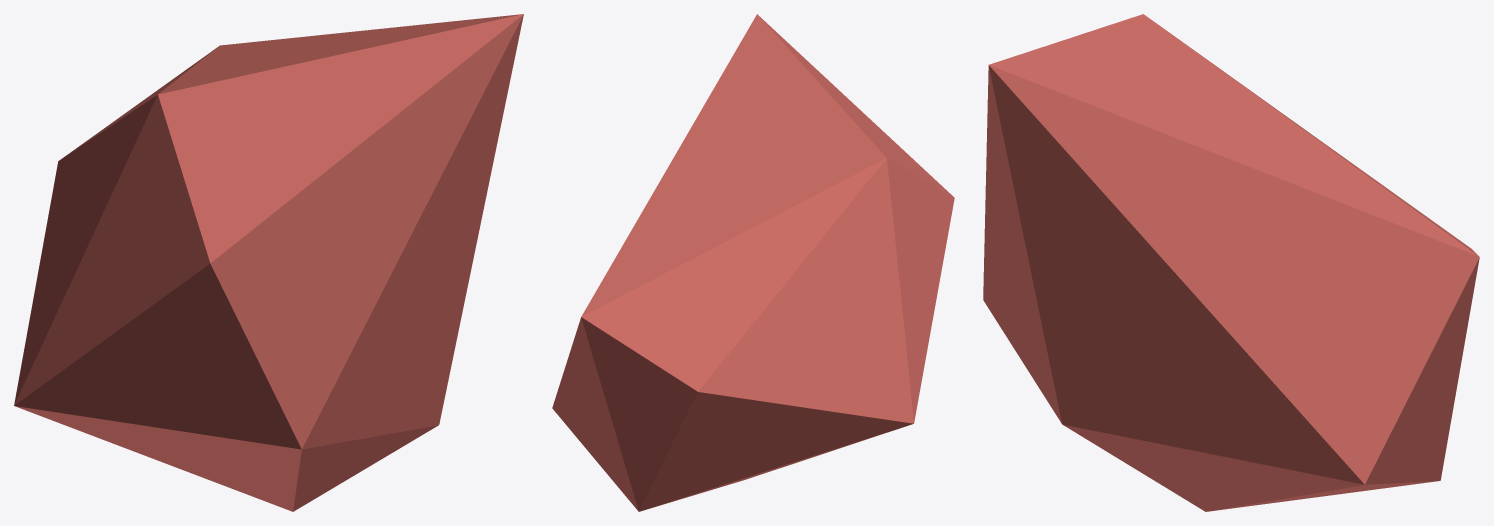
The model's file is obs4.fbx.
3 views of the same model, side by side, from view 1: azimuth 30°, elevation 25°; view 2: azimuth 150°, elevation 25°; view 3: azimuth 270°, elevation 25° (orthographic). The views are drawn at different scales.
Visible parts, largest first — view 1: Icosphere; view 2: Icosphere; view 3: Icosphere.
Part boxes in pixels (<box>): Icosphere: <box>14,14,523,511</box>; Icosphere: <box>552,14,954,511</box>; Icosphere: <box>983,14,1479,511</box>.
Size of the model in its own units: 247 by 293 by 268.
